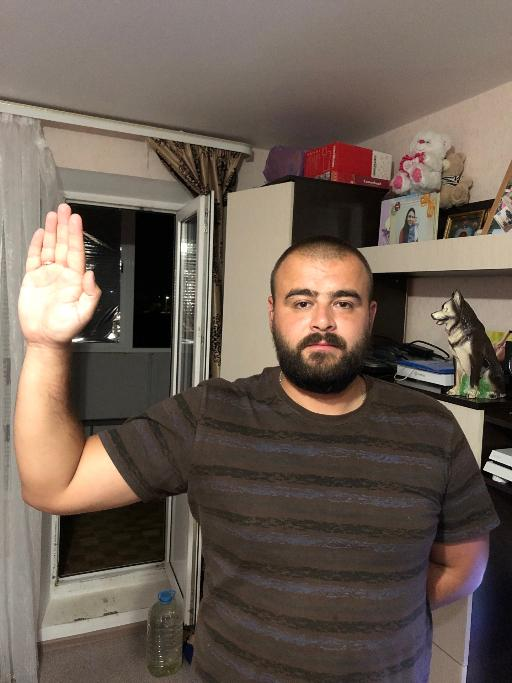stop: (14, 197, 108, 351)
